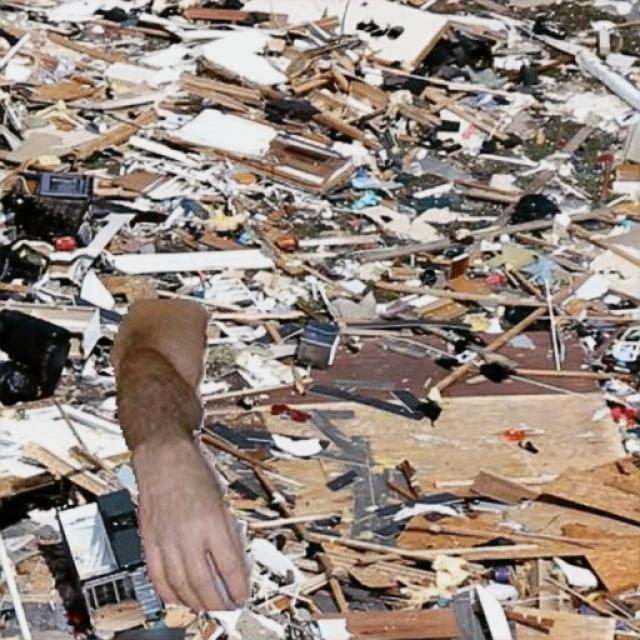Person in Rubble: (109, 299, 252, 610)
